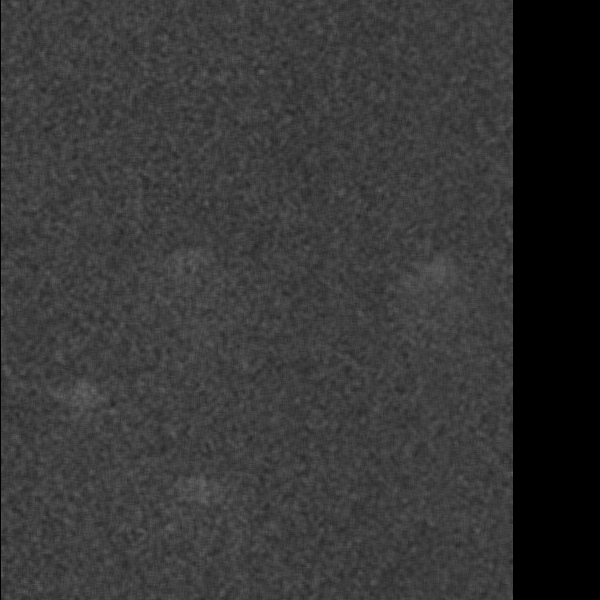spark: (390, 246, 474, 304), (45, 372, 109, 429), (177, 470, 224, 524)
